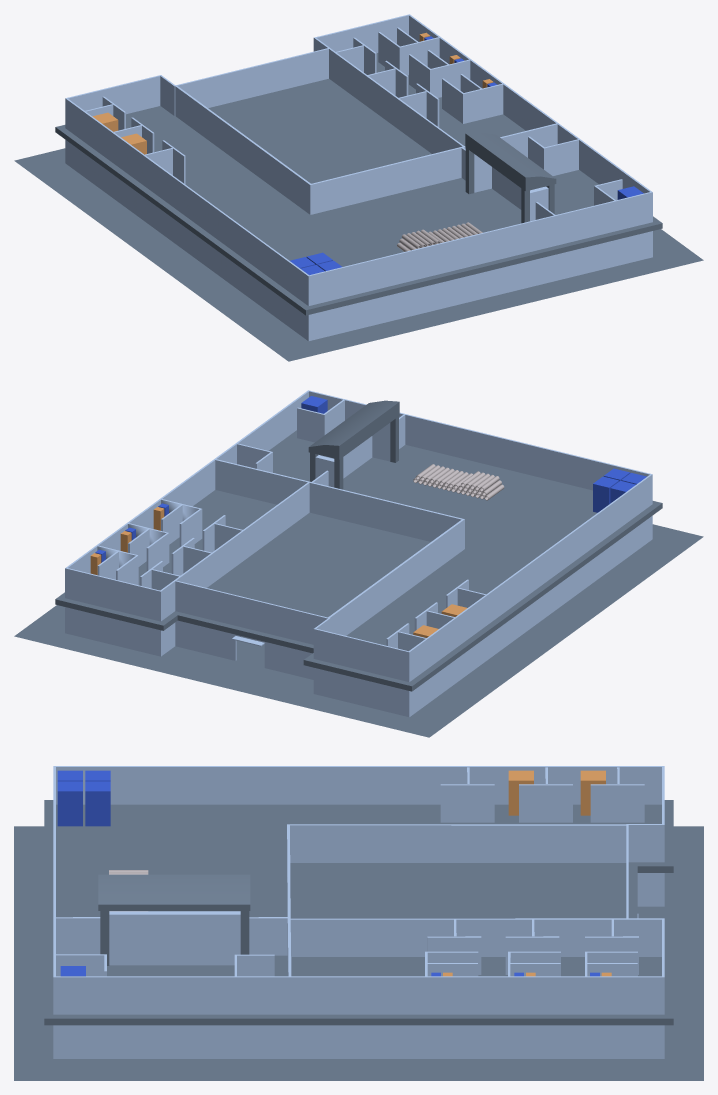
The picture shows the model from 3 angles, top to bottom: view 1: azimuth 30°, elevation 25°; view 2: azimuth 150°, elevation 25°; view 3: azimuth 270°, elevation 25°; orthographic projection. The views are drawn at different scales.
Visible parts, largest first — view 1: 平面.1; view 2: 平面.1; view 3: 平面.1.
Boxes of the visible parts, x1=… form: 平面.1: x1=14, y1=14, x2=703, y2=361; 平面.1: x1=14, y1=390, x2=703, y2=737; 平面.1: x1=14, y1=766, x2=703, y2=1080.
Size of the model in its own units: 490 by 106 by 561.
